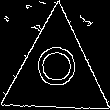O_W: (32, 49, 80, 95)
